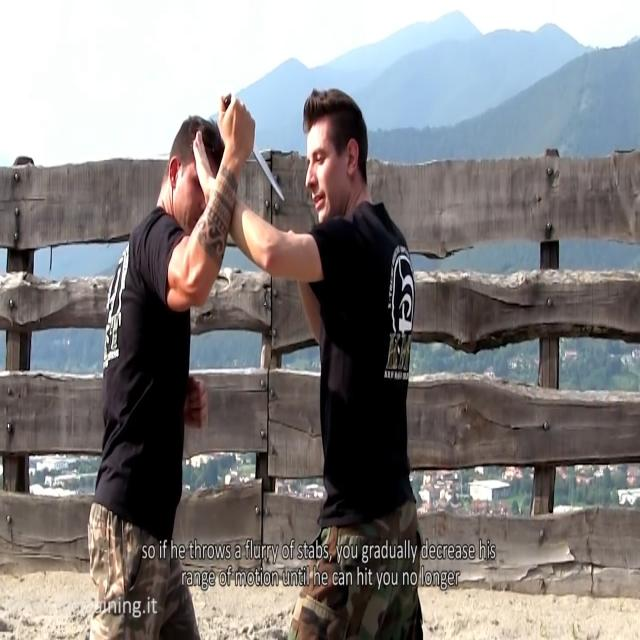knife: (250, 136, 288, 207)
